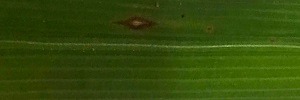RiceBlast: (111, 14, 157, 34)
